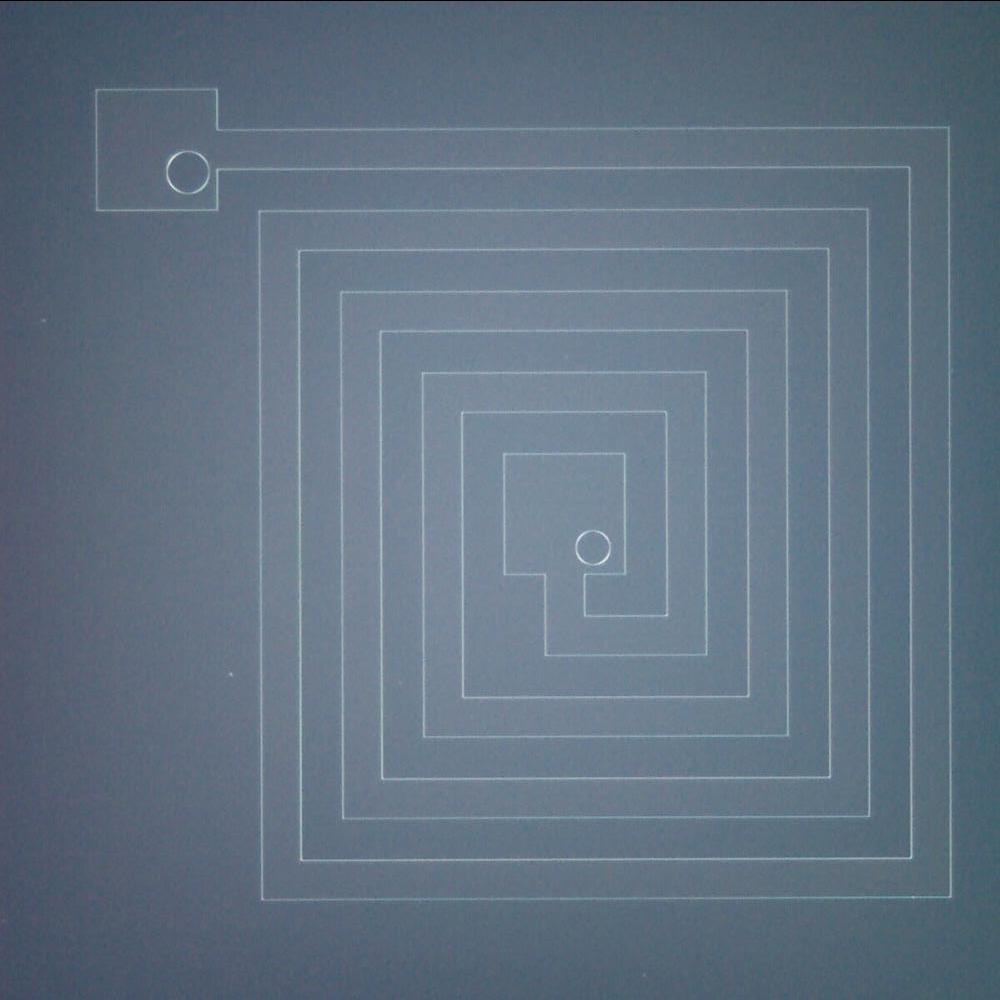circle: (164, 148, 210, 195), (570, 528, 614, 568)
